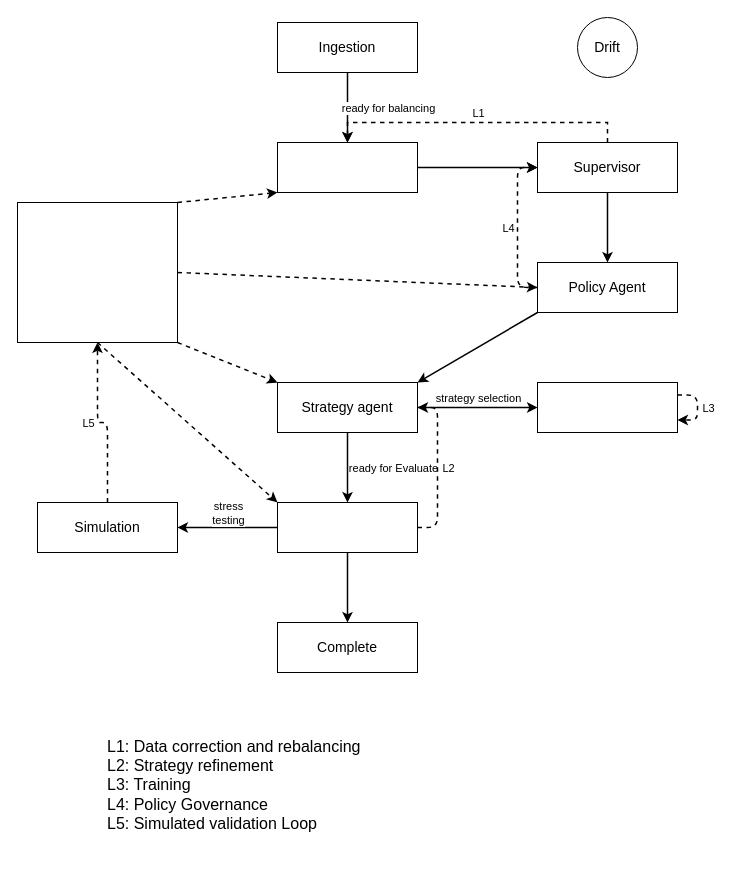
This 731x890 diagram has some shape labels left out. The shapes that lost their labels are listed below. From the top down, each one's centre as x and y in pixels, then its label:
At (347,167): "Balance".
At (97,272): "Knowledge Base (model, metric log, policies, data versions)".
At (607,407): "Training".
At (347,527): "Evaluation".
